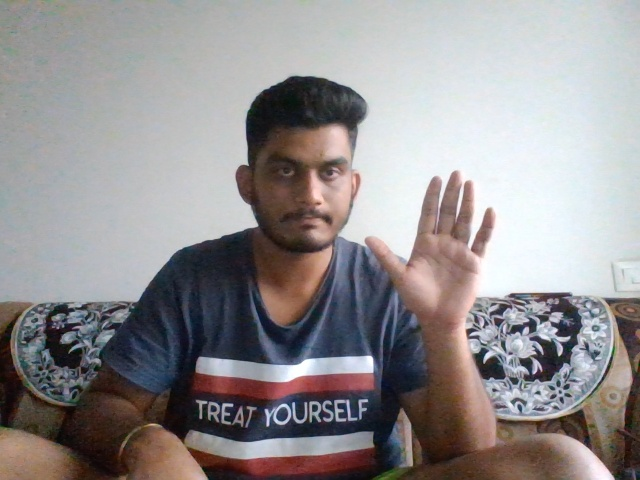Hello: (365, 169, 509, 323)
